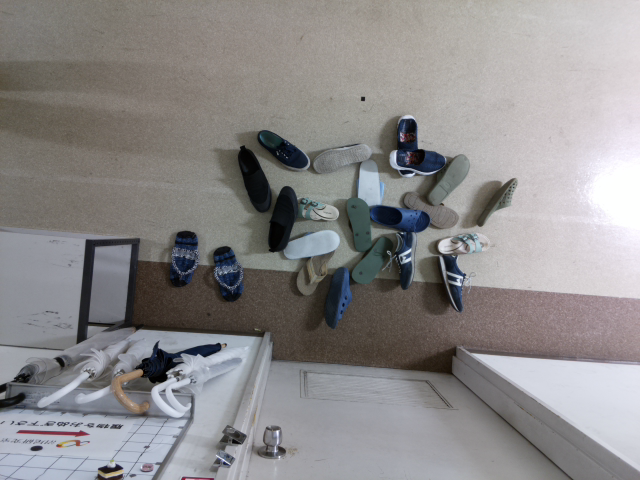Copy of Copy of Copy of Copy of Copy of Copy of Copy of shoes: (438, 254, 466, 312)
Copy of Copy of Copy of Copy of Copy of Copy of shoes: (393, 230, 416, 290)
Copy of Copy of Copy of Copy of Copy of shoes: (268, 185, 297, 253)
Copy of Copy of Copy of Copy of Copy of slipper: (283, 229, 339, 258)
Copy of Copy of Copy of Copy of sandal: (351, 236, 393, 283)
Copy of Copy of Copy of Copy of shoes: (238, 144, 272, 212)
Copy of Copy of Copy of Copy of slipper: (357, 158, 386, 205)
Copy of Copy of Copy of sandal: (345, 196, 371, 252)
Copy of Copy of Copy of shoes: (312, 142, 371, 174)
Copy of Copy of Copy of slipper: (428, 153, 470, 206)
Copy of Copy of sandal: (295, 196, 338, 221)
Copy of Copy of shoes: (257, 129, 309, 171)
Copy of Copy of slipper: (476, 178, 518, 227)
Copy of sandal: (436, 231, 490, 255)
Copy of shoes: (395, 114, 419, 177)
Copy of slipper: (369, 205, 429, 233)
sandal: (296, 248, 336, 296), (168, 229, 199, 287), (212, 244, 243, 301)
shoes: (389, 148, 445, 174)
slipper: (323, 266, 351, 329)
